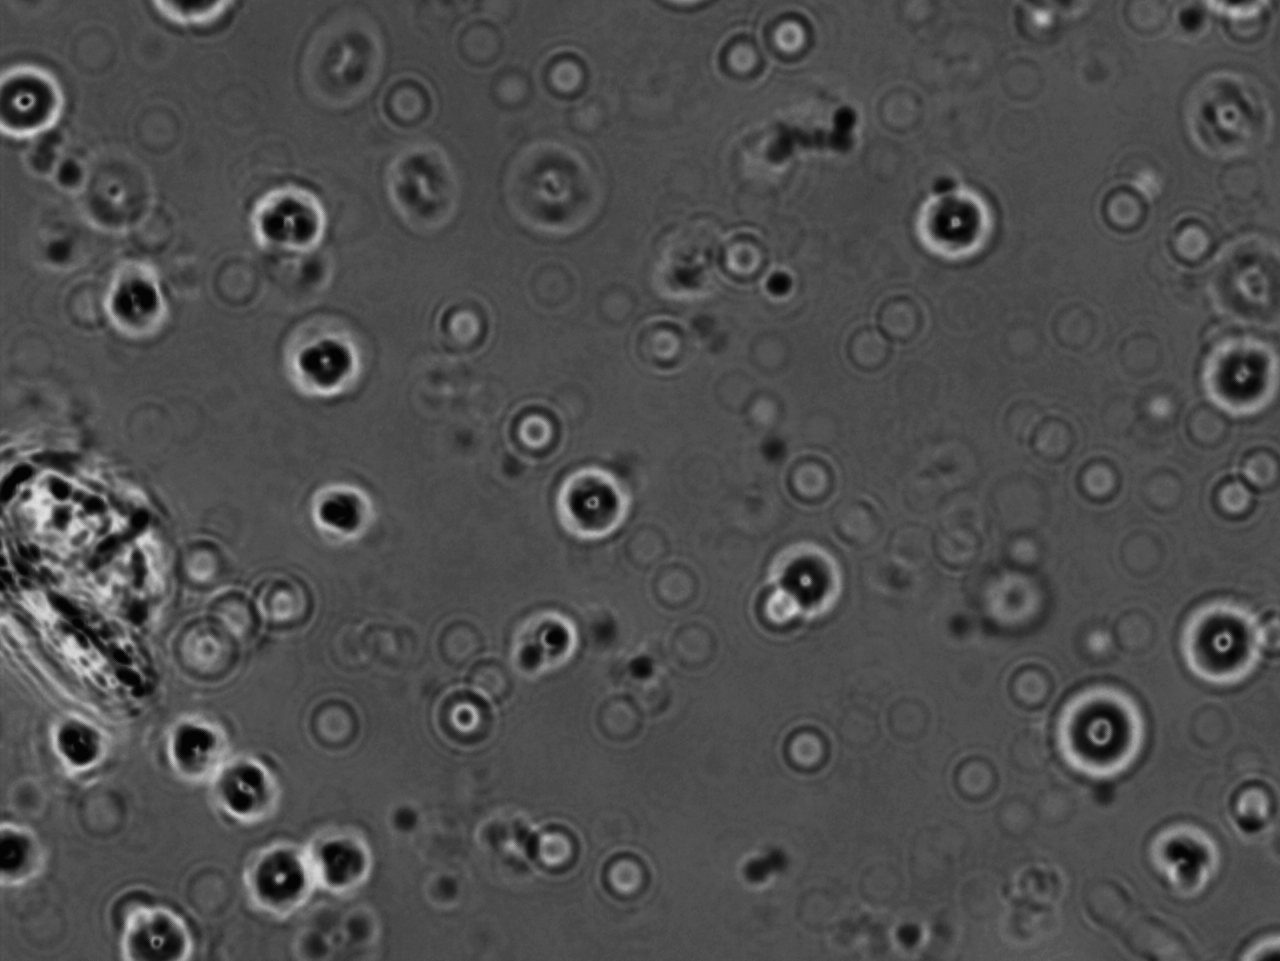depth:-8: (258, 306, 381, 417), (1033, 673, 1152, 785), (1165, 577, 1268, 707), (532, 451, 646, 555), (1183, 321, 1280, 437), (754, 537, 854, 648), (235, 163, 338, 266), (288, 810, 398, 906), (906, 176, 1002, 279), (200, 740, 291, 845), (231, 835, 323, 920), (107, 899, 206, 961)
